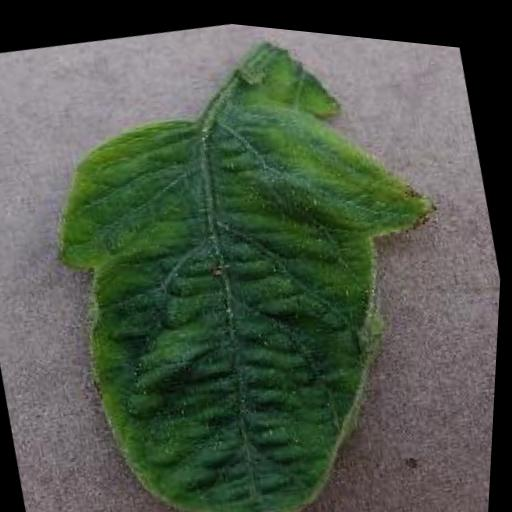Yellow Leaf Curl Virus: (21, 30, 510, 512)
